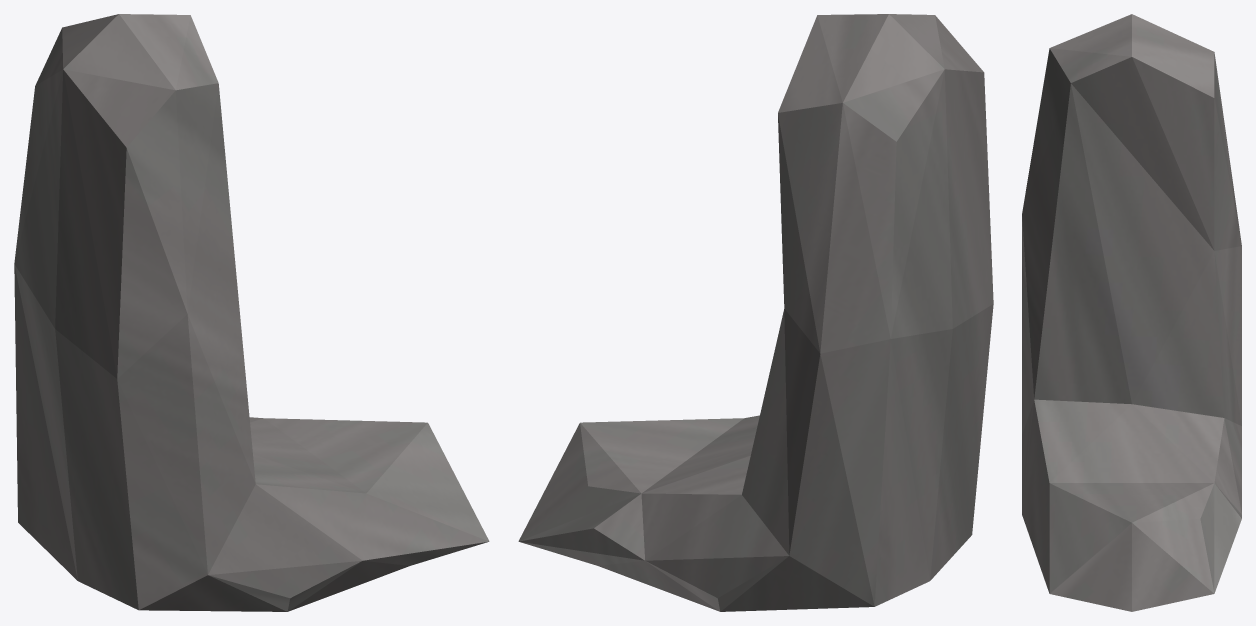
3 views of the same model, side by side, from view 1: azimuth 30°, elevation 25°; view 2: azimuth 150°, elevation 25°; view 3: azimuth 270°, elevation 25° (orthographic). The views are drawn at different scales.
Parts seen in each view (by area): view 1: L; view 2: L; view 3: L.
Boxes of the visible parts, x1,y1,x2,y2 form: L: [14, 14, 489, 611]; L: [518, 14, 993, 611]; L: [1022, 14, 1241, 611].
Size of the model in its own units: 50.91 by 72.23 by 30.
1 material, 1 textured.
